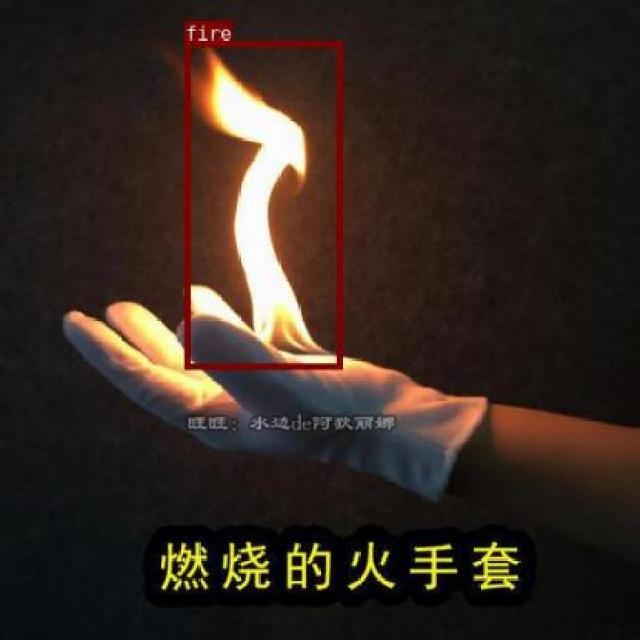fire: (182, 41, 340, 368)
